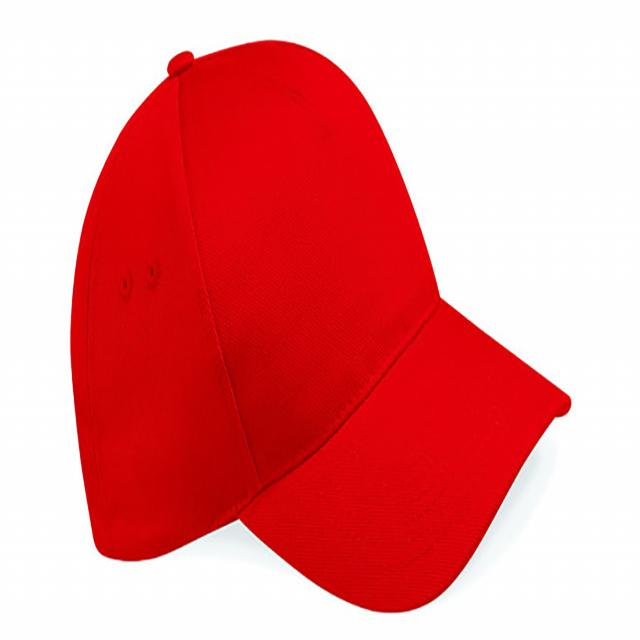Cap: (72, 40, 592, 597)
